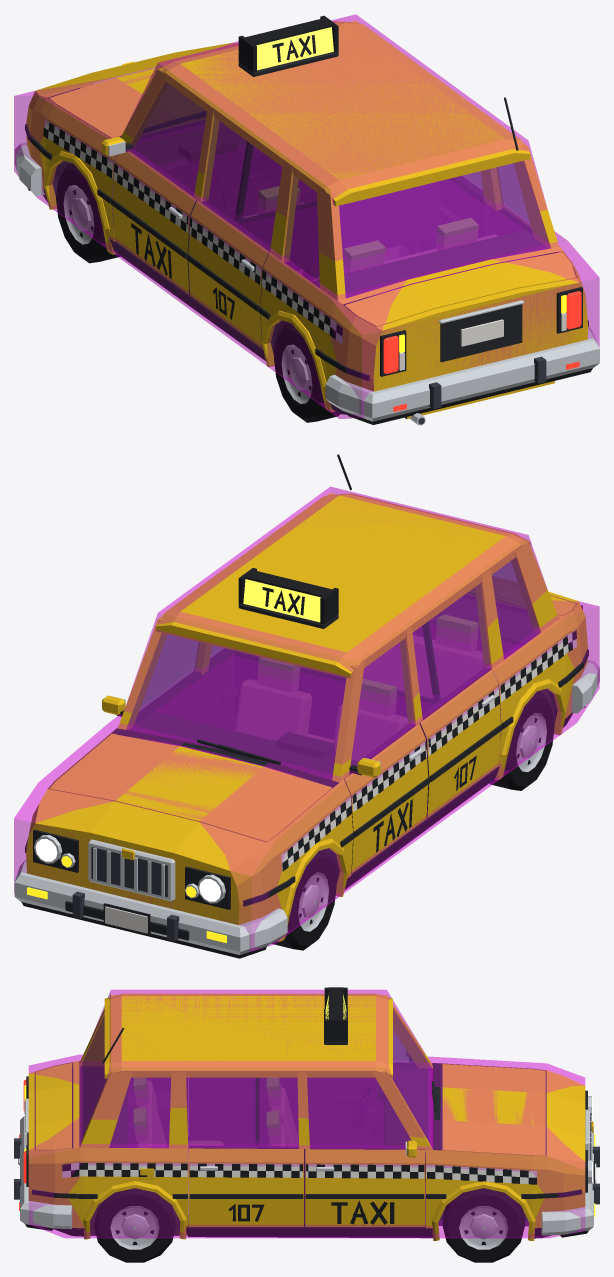
Rendered from taxi.glb.
3 views of the same model, one above another, from view 1: azimuth 30°, elevation 25°; view 2: azimuth 150°, elevation 25°; view 3: azimuth 270°, elevation 25° (orthographic). The views are drawn at different scales.
Parts seen in each view (by area): view 1: Body, Col_Cabin, Col_Body, Glass_Rear, Glass_L, Door_FL, Door_RL, Trunk, TaxiSign, Hood, Wheel_RL, Wheel_FL (+4 smaller); view 2: Body, Col_Cabin, Col_Body, Glass_Windshield, Hood, Glass_L, Door_FL, Door_RL, TaxiSign, Wheel_RL, Wheel_FL, Door_FR (+3 smaller); view 3: Body, Col_Body, Col_Cabin, Glass_R, Door_FR, Door_RR, Hood, Door_RL, Wheel_FR, Wheel_RR, Door_FL, Trunk (+4 smaller).
Part boxes in pixels (left/top/right/bottom): Body: left=14, top=21, right=599, bottom=425; Col_Cabin: left=124, top=14, right=558, bottom=297; Col_Body: left=14, top=41, right=599, bottom=418; Glass_Rear: left=339, top=161, right=549, bottom=297; Glass_L: left=132, top=82, right=319, bottom=286; Door_FL: left=102, top=136, right=196, bottom=294; Door_RL: left=186, top=200, right=270, bottom=347; Trunk: left=344, top=252, right=575, bottom=327; TaxiSign: left=238, top=15, right=338, bottom=76; Hood: left=49, top=67, right=159, bottom=138; Wheel_RL: left=274, top=324, right=339, bottom=422; Wheel_FL: left=56, top=164, right=120, bottom=263; Body: left=14, top=454, right=599, bottom=958; Col_Cabin: left=124, top=486, right=547, bottom=779; Col_Body: left=14, top=595, right=599, bottom=951; Glass_Windshield: left=127, top=633, right=345, bottom=779; Hood: left=49, top=734, right=332, bottom=842; Glass_L: left=351, top=558, right=539, bottom=764; Door_FL: left=344, top=723, right=429, bottom=873; Door_RL: left=420, top=668, right=502, bottom=818; TaxiSign: left=238, top=568, right=338, bottom=628; Wheel_RL: left=489, top=692, right=554, bottom=790; Wheel_FL: left=272, top=851, right=336, bottom=950; Door_FR: left=102, top=672, right=200, bottom=735; Body: left=14, top=993, right=599, bottom=1240; Col_Body: left=28, top=1054, right=585, bottom=1238; Col_Cabin: left=81, top=989, right=432, bottom=1152; Glass_R: left=109, top=1078, right=410, bottom=1148; Door_FR: left=305, top=1140, right=424, bottom=1226; Door_RR: left=189, top=1146, right=303, bottom=1226; Hood: left=442, top=1064, right=545, bottom=1155; Door_RL: left=189, top=1078, right=297, bottom=1139; Wheel_FR: left=442, top=1188, right=524, bottom=1262; Wheel_RR: left=94, top=1188, right=176, bottom=1262; Door_FL: left=310, top=1058, right=417, bottom=1139; Trunk: left=35, top=1063, right=71, bottom=1150.
Size of what is drawn, in the model's own units: 2.1 by 2.03 by 4.84.
